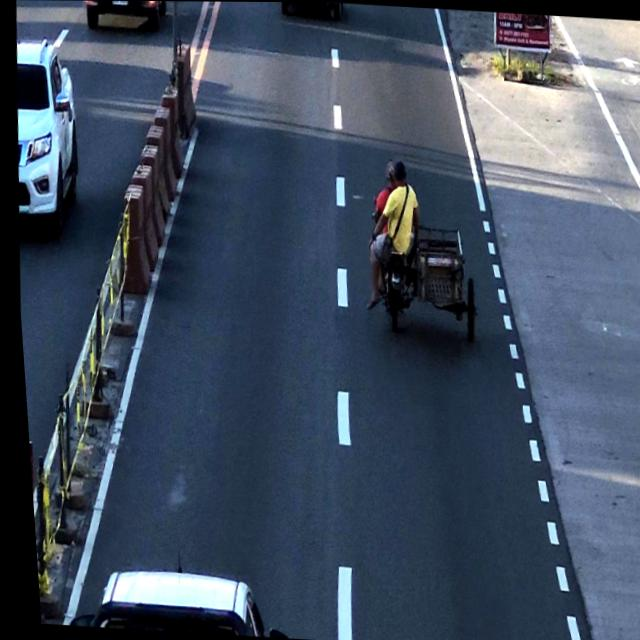Car: (81, 573, 257, 637)
Tricycle: (356, 159, 482, 349)
